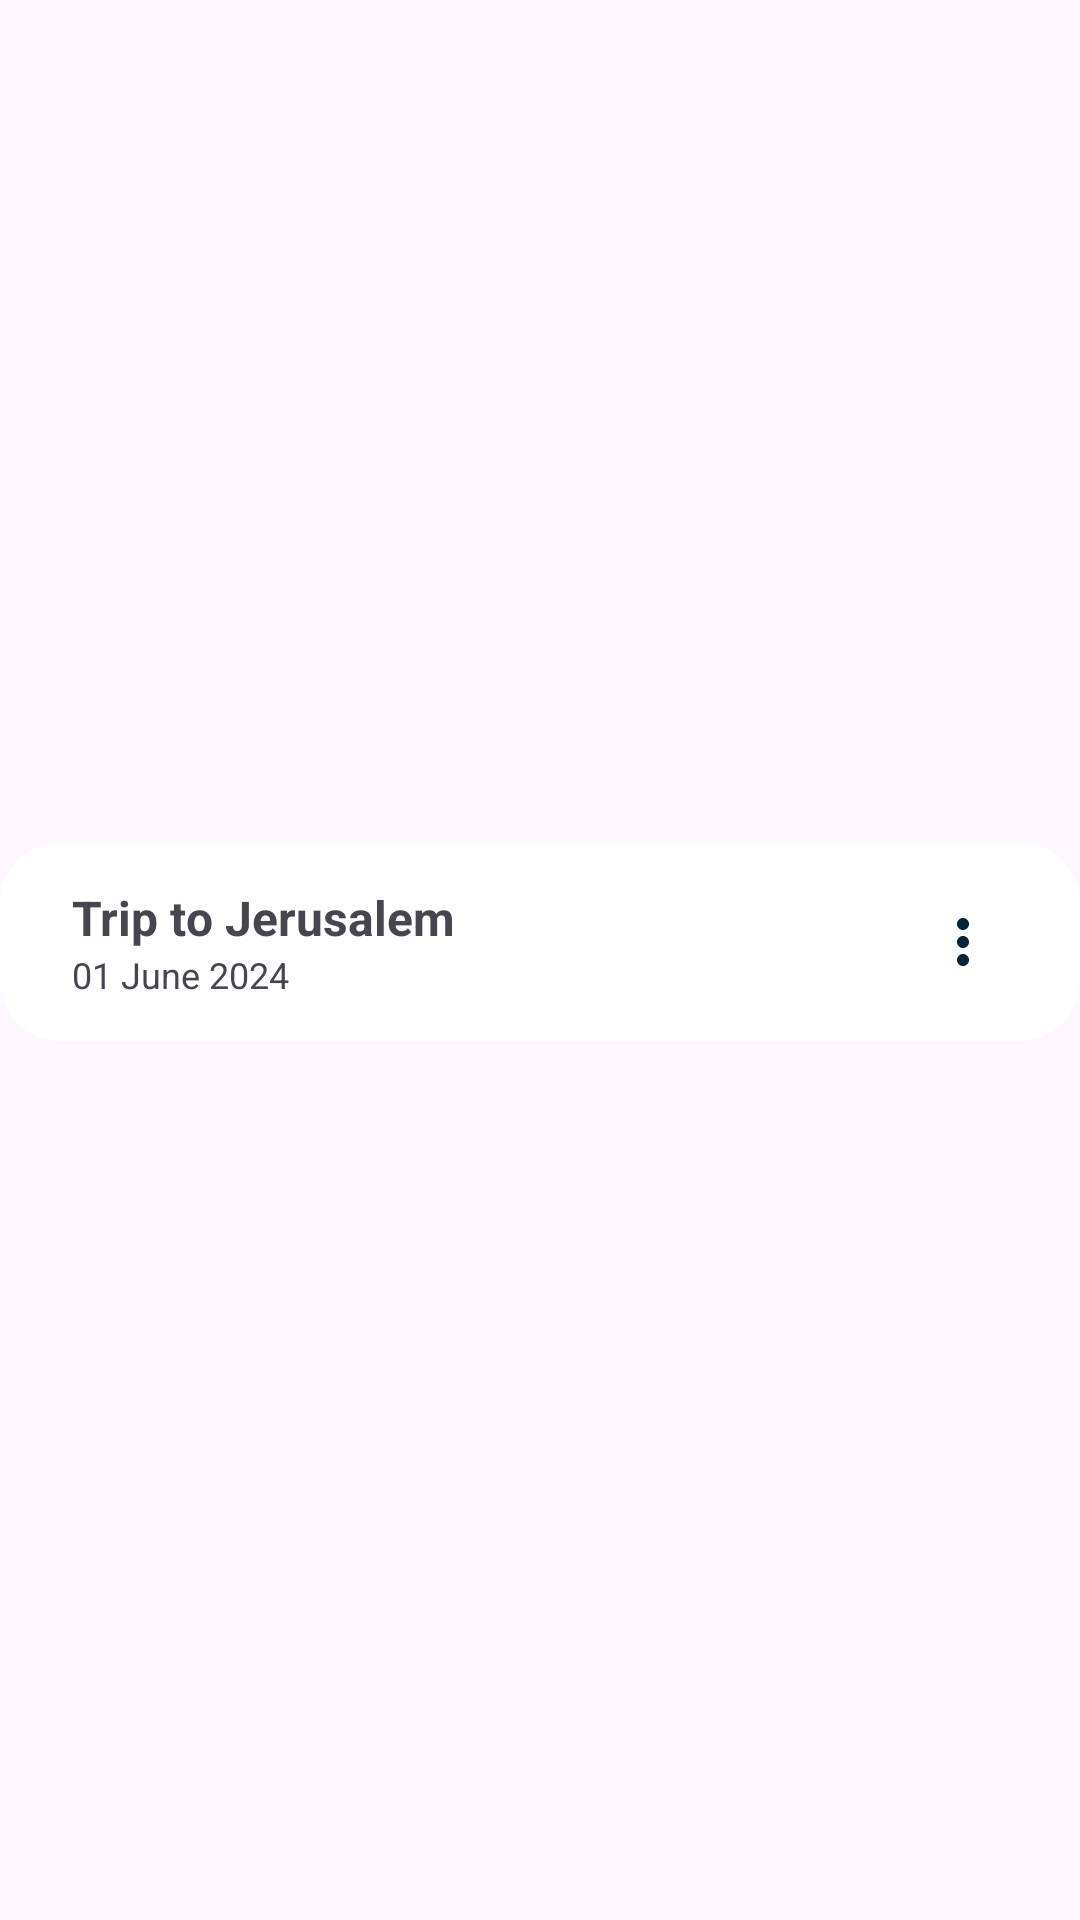

Screen size 1080 x 1920. Icon name, then its center in pixels as point (x, y):
kebab: point (963, 942)
